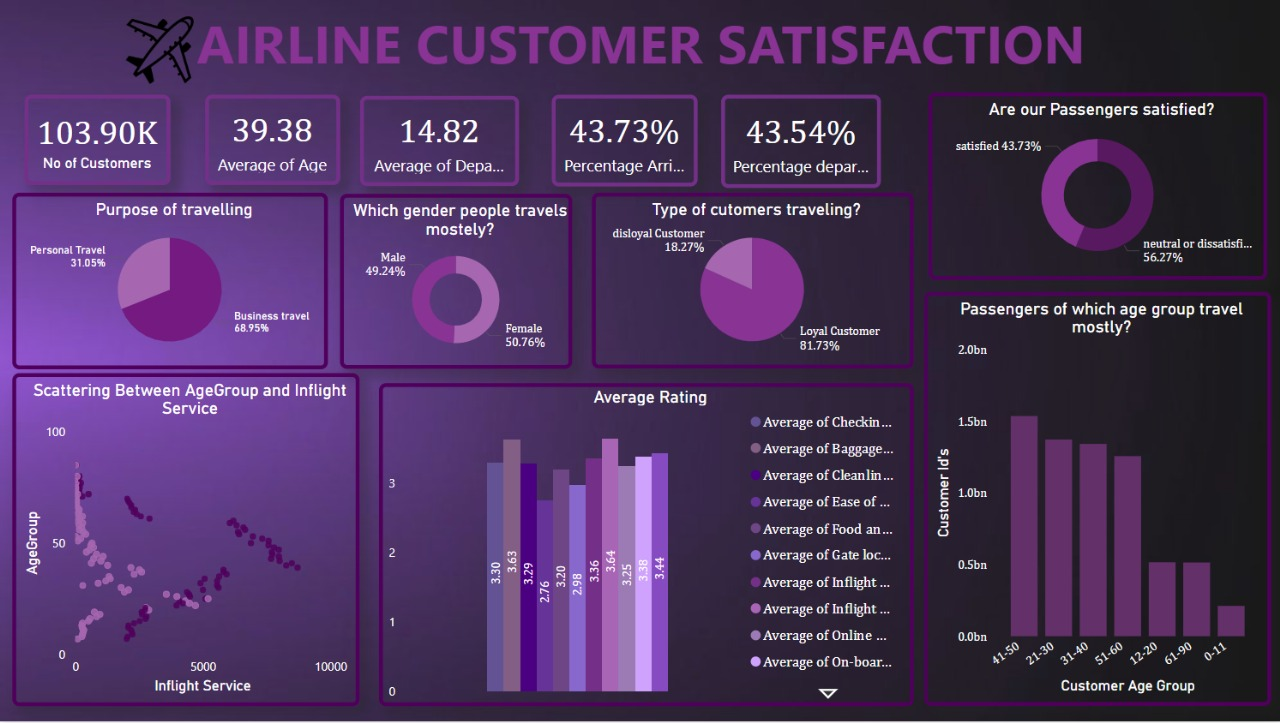

This screenshot's page, from the dashboard's own definition file:
{"tool":"powerbi","page":{"name":"Page 1","canvas":[1280,720],"ordinal":0},"visuals":[{"type":"textbox","box":[191.1,0,922.2,81.1],"z":0},{"type":"card","fields":{"Values":["Worksheet.No of Customers"]},"box":[24,94,145.4,89.6],"z":1000},{"type":"card","fields":{"Values":["Avg(Worksheet.Age)"]},"box":[204.4,94,134.5,89.6],"z":2000},{"type":"card","fields":{"Values":["Avg(Worksheet.Departure Delay in Minutes)"]},"box":[358.5,95.1,158.5,89.6],"z":3000},{"type":"card","fields":{"Values":["Worksheet.Percentage Arrival delay"]},"box":[549.8,94,145.4,91.8],"z":4000},{"type":"card","fields":{"Values":["Worksheet.Percentage departure delay"]},"box":[719.3,94,159.6,92.9],"z":5000},{"type":"clusteredColumnChart","title":"Passengers of which age group travel mostly?","fields":{"Category":["Worksheet.ageGroup"],"Y":["Sum(Worksheet.id)"]},"box":[921.5,290.8,346.5,413.2],"z":6000},{"type":"donutChart","title":"Are our Passengers satisfied?","fields":{"Category":["Worksheet.satisfaction"],"Y":["Sum(Worksheet.id)"]},"box":[925.9,91.8,337.8,186.9],"z":7000},{"type":"pieChart","title":"Purpose of travelling","fields":{"Category":["Worksheet.Type of Travel"],"Y":["Sum(Worksheet.id)"]},"box":[12,192.4,314.8,176],"z":8000},{"type":"pieChart","title":"Type of cutomers traveling?","fields":{"Category":["Worksheet.Customer Type"],"Y":["Sum(Worksheet.id)"]},"box":[590.5,192.7,320.4,175.6],"z":9000},{"type":"donutChart","title":"Which gender people travels mostely?","fields":{"Category":["Worksheet.Gender"],"Y":["Sum(Worksheet.id)"]},"box":[338.9,193.5,231.7,174.9],"z":10000},{"type":"clusteredColumnChart","title":"Average Rating","fields":{"Y":["Avg(Worksheet.Checkin service)","Avg(Worksheet.Baggage handling)","Avg(Worksheet.Cleanliness)","Avg(Worksheet.Ease of Online booking)","Avg(Worksheet.Food and drink)","Avg(Worksheet.Gate location)","Avg(Worksheet.Inflight entertainment)","Avg(Worksheet.Inflight service)","Avg(Worksheet.Online boarding)","Avg(Worksheet.On-board service)","Avg(Worksheet.Seat comfort)"]},"box":[377.8,382.2,533.3,322.2],"z":11000},{"type":"scatterChart","title":"Scattering Between AgeGroup and Inflight Service","fields":{"X":["Sum(Worksheet.Inflight service)"],"Size":["Avg(Worksheet.Ease of Online booking)"],"Series":["Worksheet.Customer Type"],"Y":["Worksheet.Age"]},"box":[12,372.8,346.5,332.3],"z":12000},{"type":"image","box":[111.7,0,93.3,99.4],"z":13000}]}

Visuals, with their boxes in screenshot pixels (x1, y1, x2, y2), scaled from the page's 1280x720 canvas onto the 1280x723 screenshot:
textbox: 191, 0, 1113, 81
card - Worksheet.No of Customers: 24, 94, 169, 184
card - Avg(Worksheet.Age): 204, 94, 339, 184
card - Avg(Worksheet.Departure Delay in Minutes): 358, 95, 517, 185
card - Worksheet.Percentage Arrival delay: 550, 94, 695, 187
card - Worksheet.Percentage departure delay: 719, 94, 879, 188
"Passengers of which age group travel mostly?" clusteredColumnChart: 922, 292, 1268, 707
"Are our Passengers satisfied?" donutChart: 926, 92, 1264, 280
"Purpose of travelling" pieChart: 12, 193, 327, 370
"Type of cutomers traveling?" pieChart: 590, 194, 911, 370
"Which gender people travels mostely?" donutChart: 339, 194, 571, 370
"Average Rating" clusteredColumnChart: 378, 384, 911, 707
"Scattering Between AgeGroup and Inflight Service" scatterChart: 12, 374, 358, 708
image: 112, 0, 205, 100
